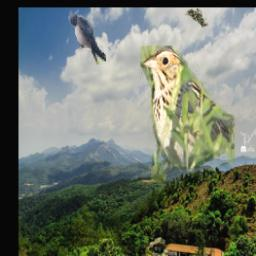Cuckoo: (183, 8, 208, 28)
Sparrow: (141, 47, 236, 183)
Swallow: (71, 14, 107, 65)
